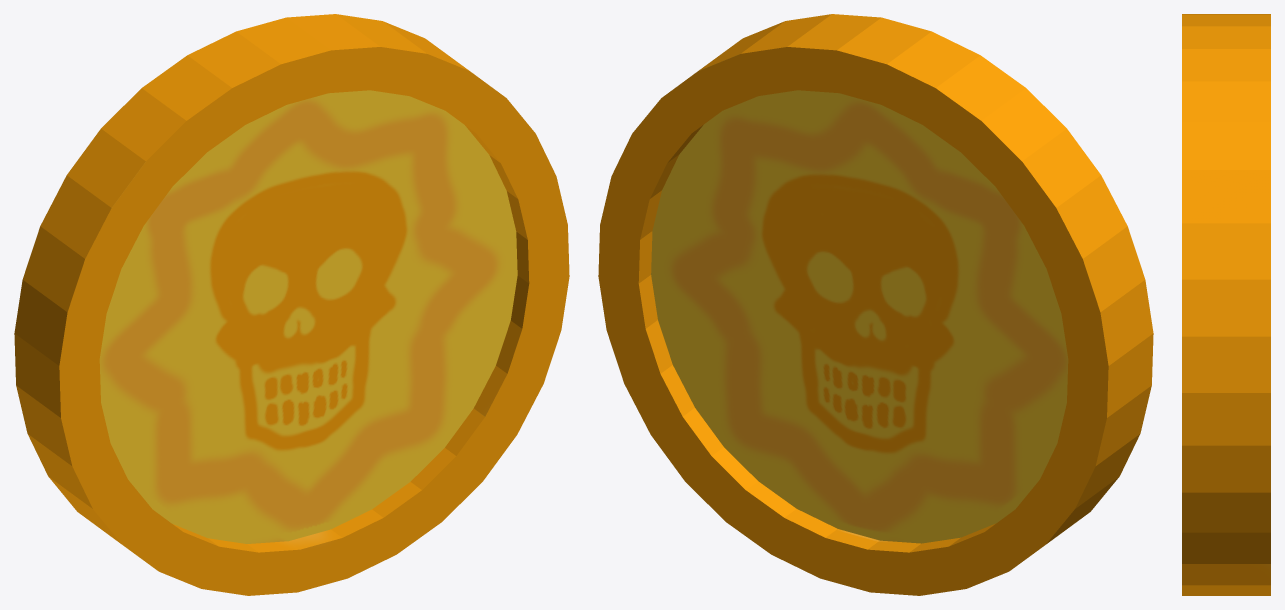
The model's file is Coin.fbx.
The picture shows the model from 3 angles, left to right: view 1: azimuth 30°, elevation 25°; view 2: azimuth 150°, elevation 25°; view 3: azimuth 270°, elevation 25°; orthographic projection.
Parts seen in each view (by area): view 1: Coin; view 2: Coin; view 3: Coin.
Boxes of the visible parts, left/top/right/bottom form: Coin: left=14, top=14, right=569, bottom=595; Coin: left=598, top=14, right=1153, bottom=595; Coin: left=1182, top=14, right=1270, bottom=595.
Bounding box in the file's own units: 0.4132 × 0.4132 × 0.063.
